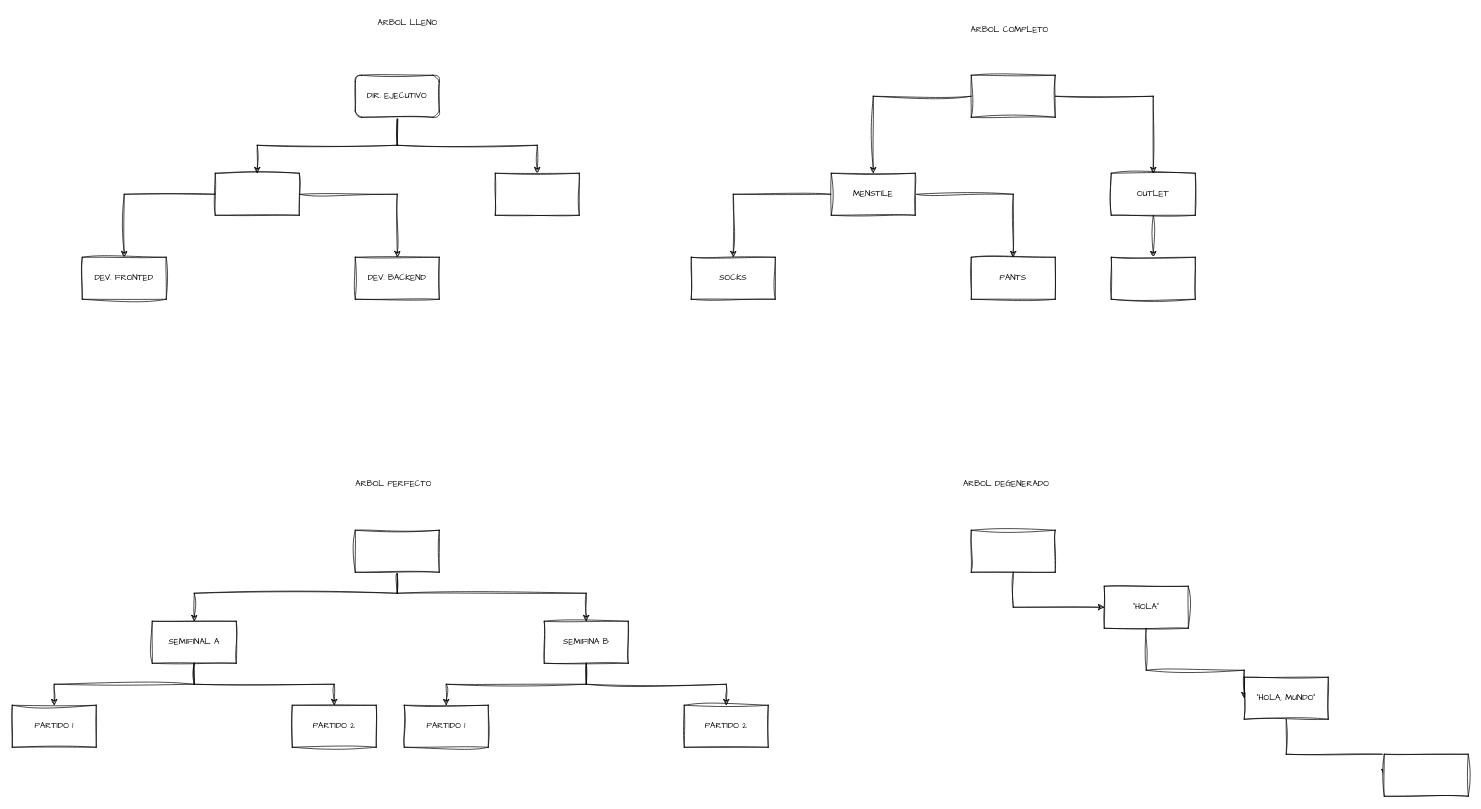
Image size: 1481x809. Some labels were removed from this diagram. Each missing label, with the centre of its shape:
CON. LEGAR EXTERNO: point 537,194
DIR TECNOLOGIA: point 257,194
DOC EN BLANCO: point 1013,551
FINAL: point 397,551
LAST ONE: point 1153,278
SVZTORE: point 1013,96
TEXTO EN NEGRITA: point 1426,775
